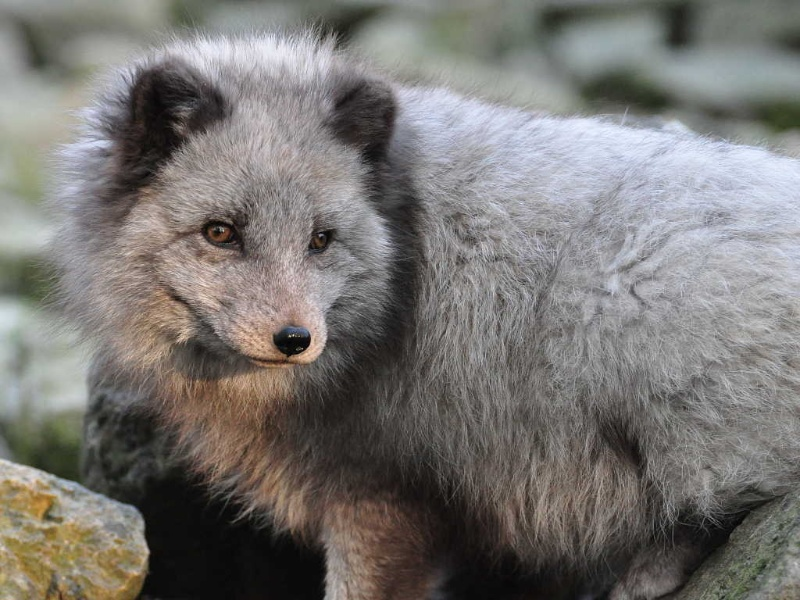fox: (75, 51, 800, 580)
